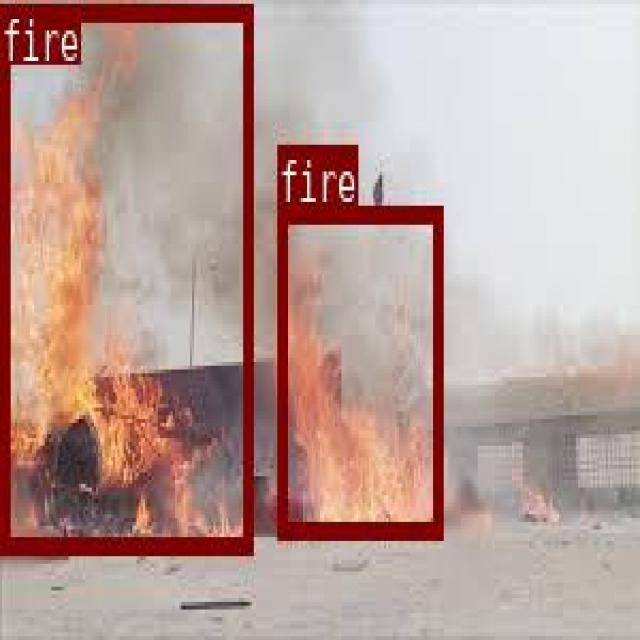fire: (0, 0, 251, 552), (277, 206, 442, 537)
